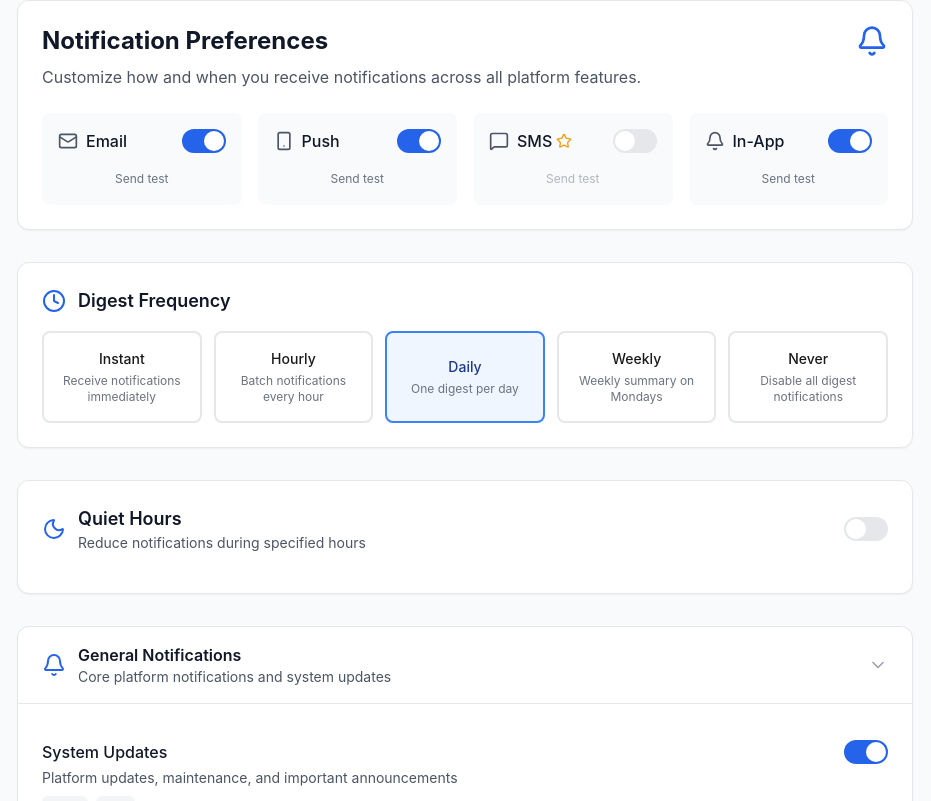
NotificationPreferences › Quiet hours settings › toggling quiet hours checkbox shows time fields
Expected: the heading "Quiet Hours" is shown, [78,508,182,529]
// click toggles unchecked → checked
Click the checkbox in the row of "Quiet Hours": {"x": 866, "y": 529} [844,517,888,541]
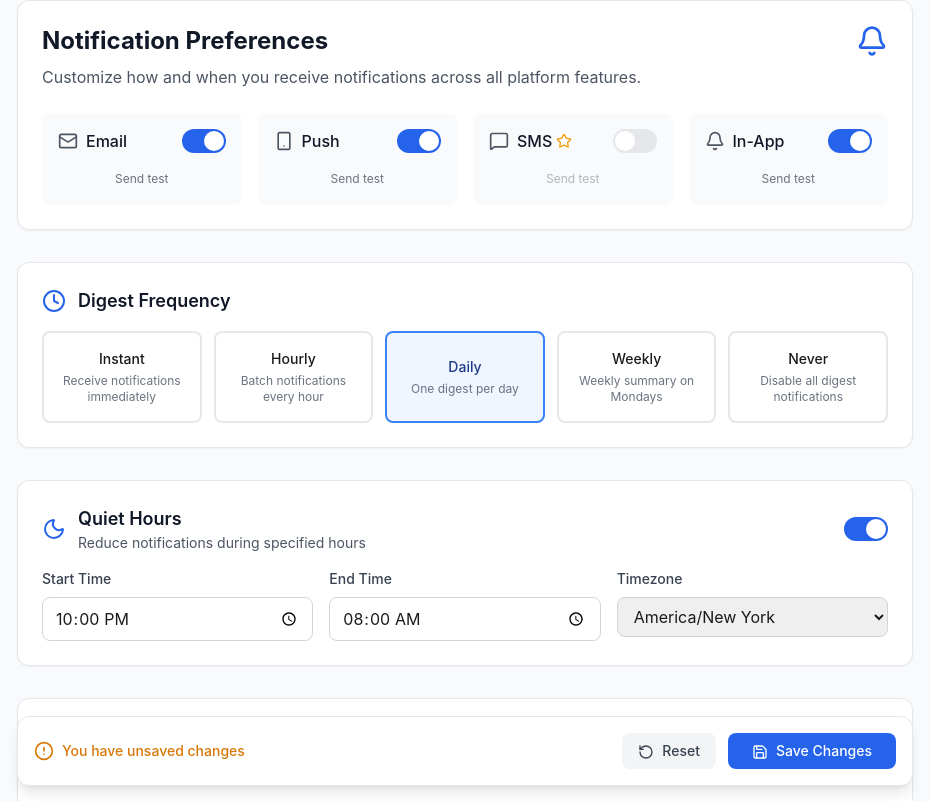
Expected: the text "Start Time" is shown, [42,570,111,587]
Expected: the text "End Time" is shown, [329,570,392,587]
